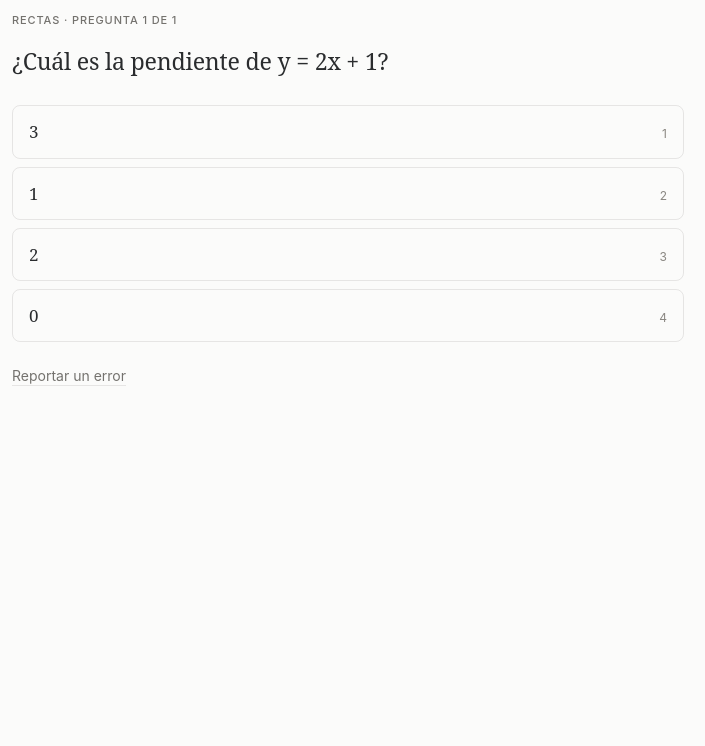
Test: Práctica v2 › Feedback alarm muestra el error común primero
Expected: the heading "¿Cuál es la pendiente de y = 2x + 1?" is shown, [12, 45, 388, 77]
Click the button "1 2": point(34, 193) [12, 167, 684, 220]
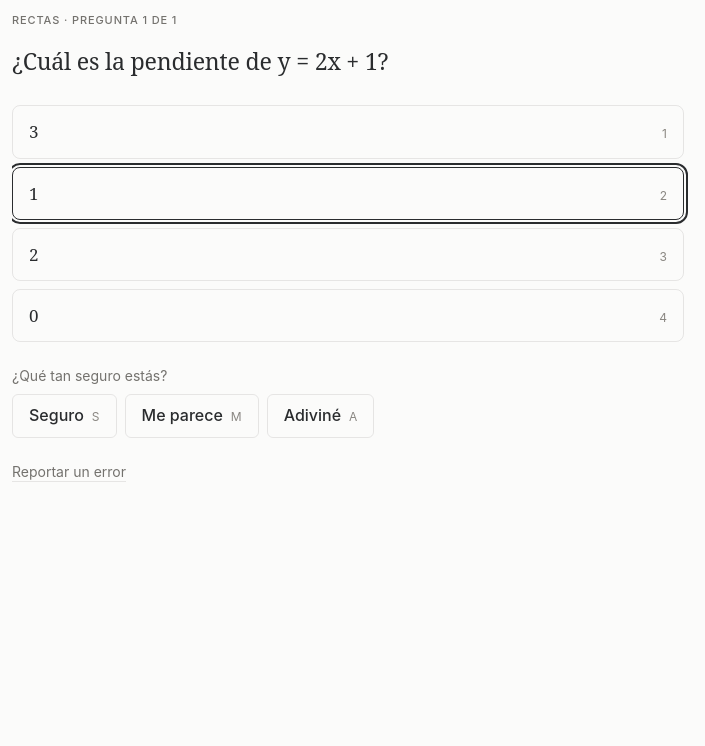
Click the button "Seguro S": point(64, 416) [12, 394, 116, 438]
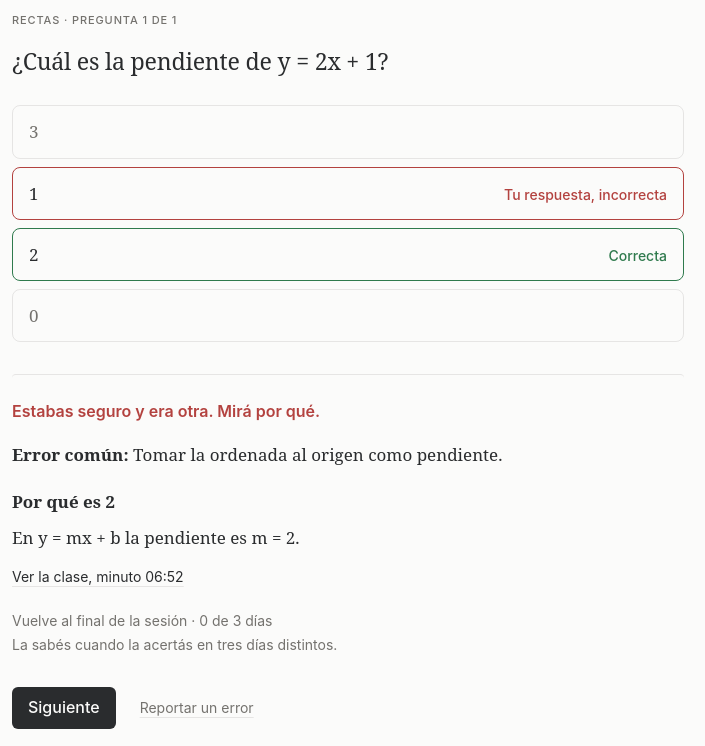
Expected: the text "pregunta 1 de 1" is shown, [72, 13, 177, 27]
Result: the text "La sabés cuando la acertás en tres días distintos." is shown at [12, 636, 337, 653]
Result: the button "Siguiente" is shown
Click the button "Siguiente": point(64, 708) [12, 687, 116, 729]
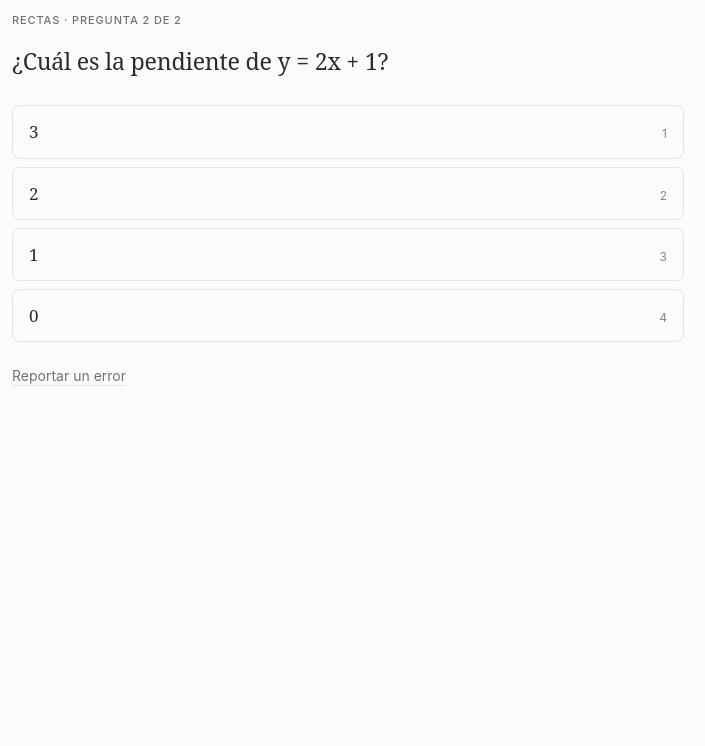
Result: the text "pregunta 2 de 2" is shown at [72, 13, 182, 27]
